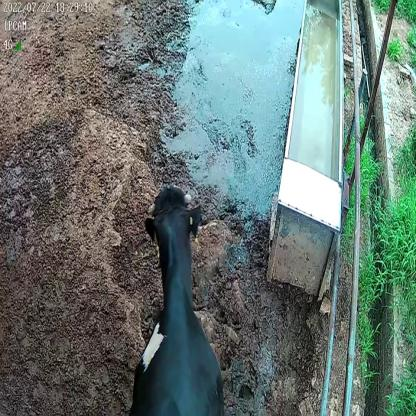cow: (125, 185, 226, 416)
